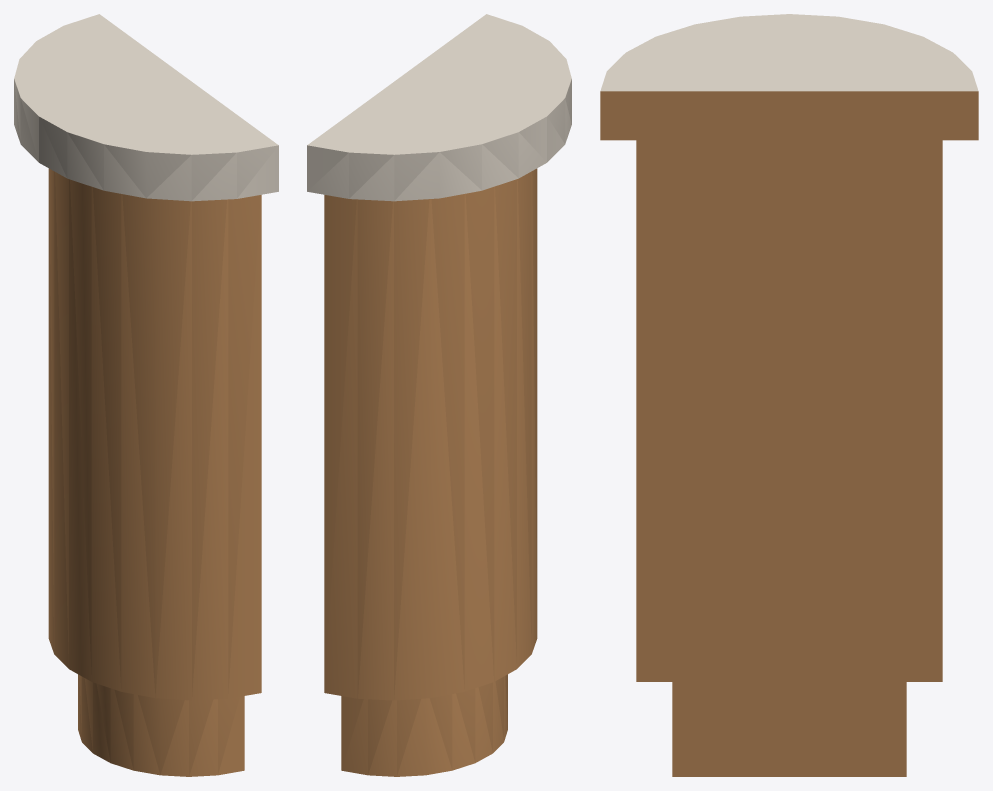
File: kitKitchenBarEnd.glb
The picture shows the model from 3 angles, left to right: view 1: azimuth 30°, elevation 25°; view 2: azimuth 150°, elevation 25°; view 3: azimuth 270°, elevation 25°; orthographic projection. The views are drawn at different scales.
Visible parts, largest first — view 1: kitKitchenBarEnd_wood, kitKitchenBarEnd_metal; view 2: kitKitchenBarEnd_wood, kitKitchenBarEnd_metal; view 3: kitKitchenBarEnd_wood, kitKitchenBarEnd_metal.
Boxes of the visible parts, bbox=[...] form: kitKitchenBarEnd_wood: bbox=[48, 168, 261, 776]; kitKitchenBarEnd_metal: bbox=[14, 14, 278, 201]; kitKitchenBarEnd_wood: bbox=[324, 168, 537, 776]; kitKitchenBarEnd_metal: bbox=[307, 14, 571, 201]; kitKitchenBarEnd_wood: bbox=[600, 91, 978, 776]; kitKitchenBarEnd_metal: bbox=[600, 14, 978, 91].
Size of the model in its own units: 0.2031 by 0.84 by 0.42.
